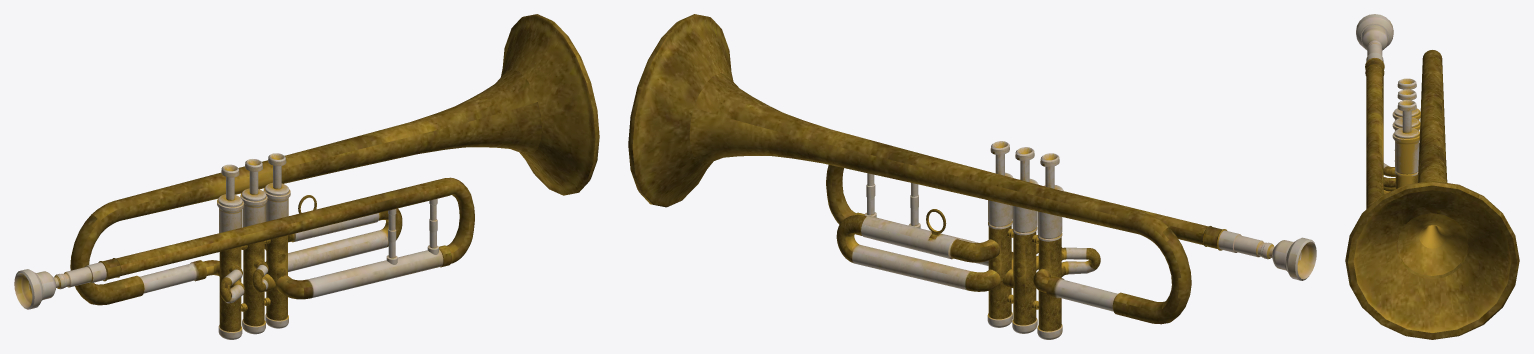
Rendered from trumpet.glb.
3 views of the same model, side by side, from view 1: azimuth 30°, elevation 25°; view 2: azimuth 150°, elevation 25°; view 3: azimuth 270°, elevation 25° (orthographic). The views are drawn at different scales.
Parts seen in each view (by area): view 1: g; view 2: g; view 3: g.
Boxes of the visible parts, x1,y1,x2,y2 form: g: (14,14,599,339); g: (628,14,1316,339); g: (1345,14,1519,339).
Bounding box in the file's own units: 0.5 × 0.1911 × 0.1432.
1 material, 1 textured.
